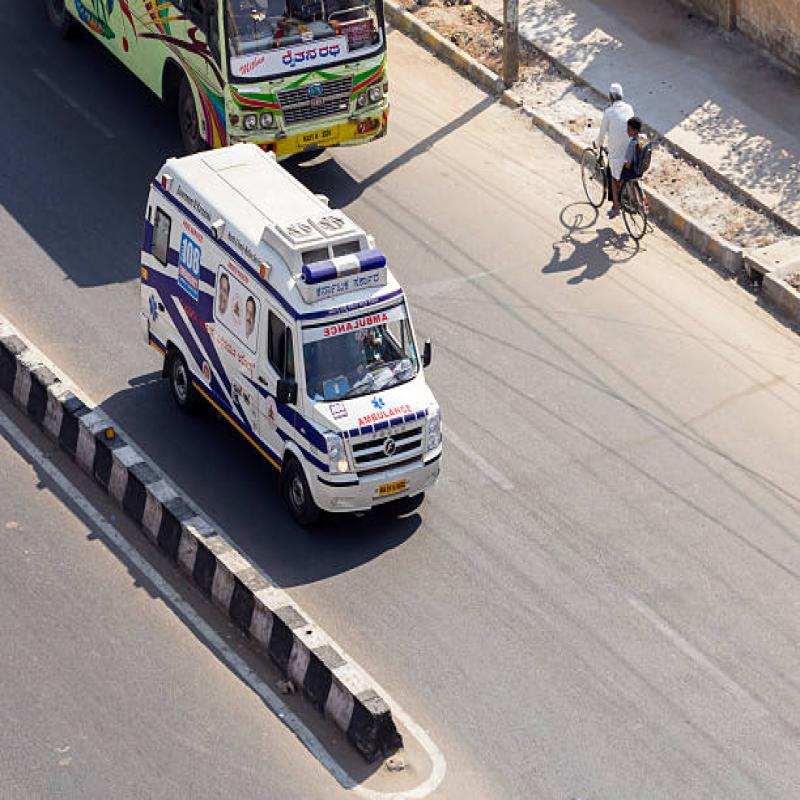AmbulanceSiren: (291, 249, 404, 290)
ambulance: (128, 109, 456, 524)
